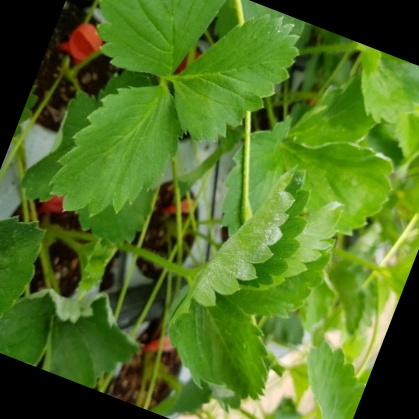Powdery_Leaf: (190, 134, 307, 302)
